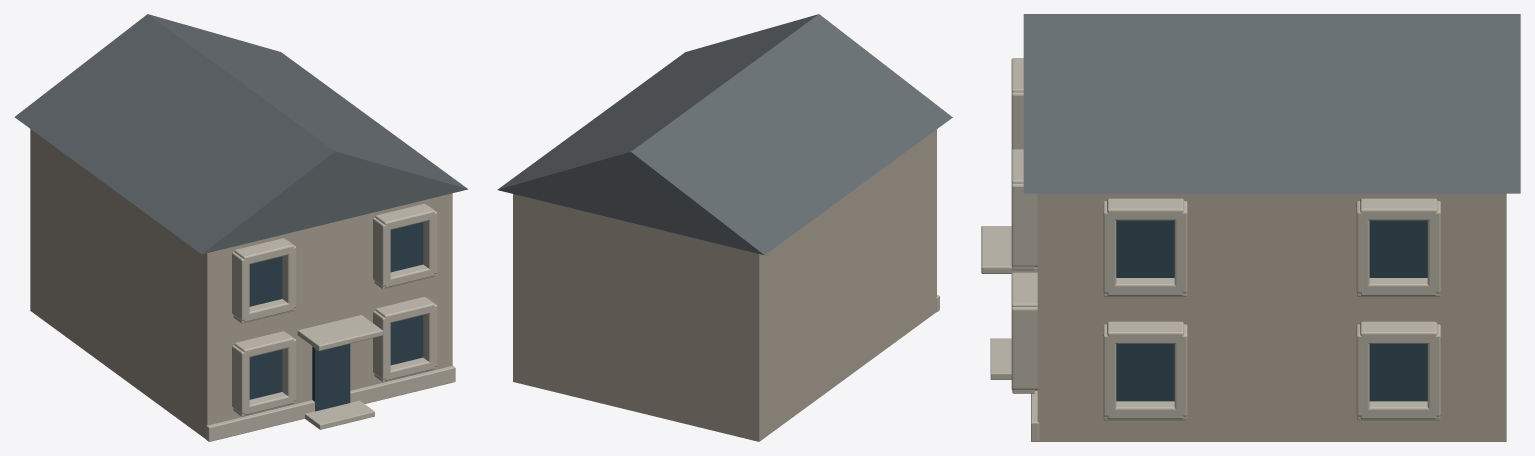
Rendered from detached-house-sculpted-extreme.glb.
The picture shows the model from 3 angles, left to right: view 1: azimuth 30°, elevation 25°; view 2: azimuth 150°, elevation 25°; view 3: azimuth 270°, elevation 25°; orthographic projection. The views are drawn at different scales.
Visible parts, largest first — view 1: roof, wall, stone, glass; view 2: wall, roof; view 3: roof, wall, stone, glass.
Boxes of the visible parts, box(x1,y1,x2,y2) form: roof: box(14, 14, 467, 254); wall: box(30, 129, 452, 439); stone: box(206, 204, 455, 441); glass: box(249, 222, 423, 411); wall: box(513, 129, 936, 441); roof: box(497, 14, 952, 255); roof: box(1023, 14, 1520, 193); wall: box(1037, 193, 1506, 441); stone: box(981, 58, 1440, 441); glass: box(1116, 220, 1427, 401).
Bounding box in the file's own units: 8.91 × 8.2 × 11.5.
